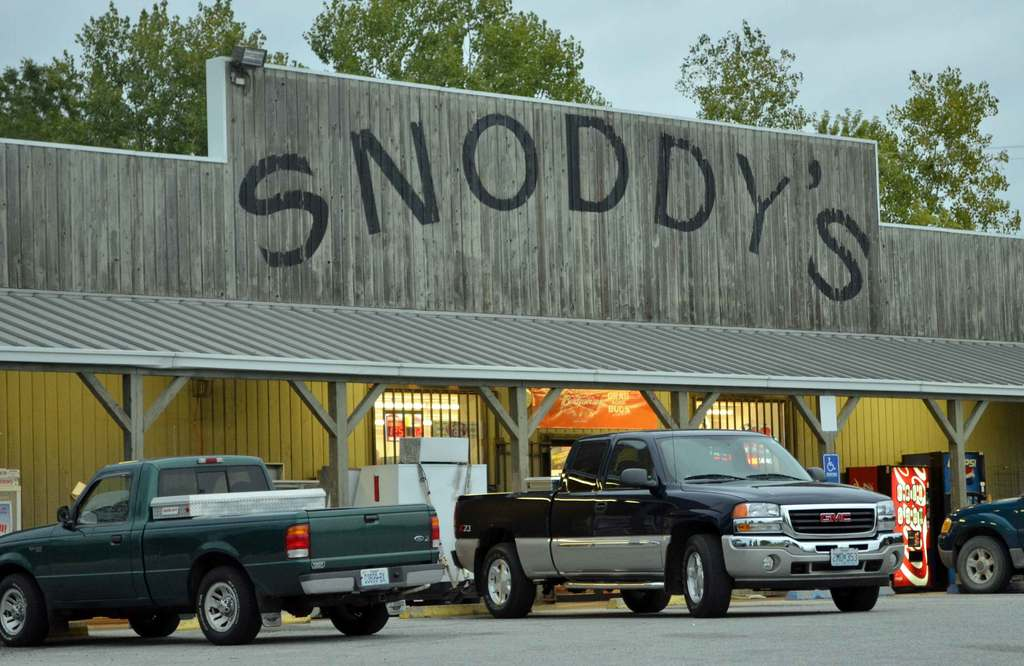car: (451, 402, 912, 623), (1, 425, 460, 646), (925, 459, 1024, 600)
